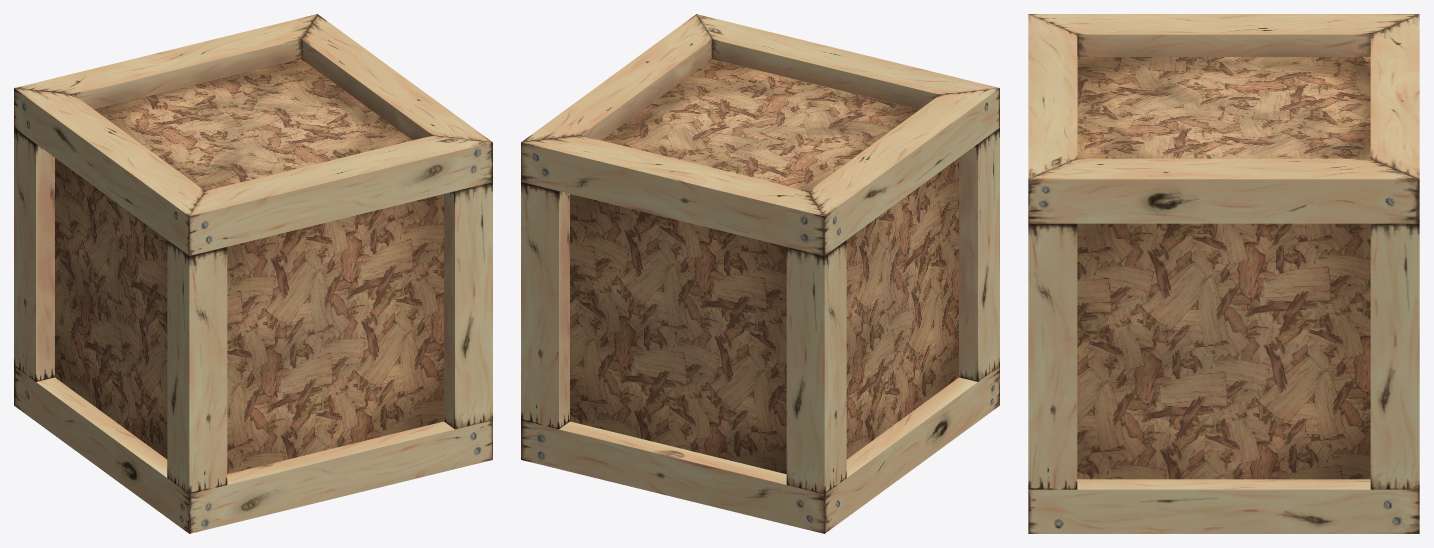
The model's file is PT_Crate.fbx.
The picture shows the model from 3 angles, left to right: view 1: azimuth 30°, elevation 25°; view 2: azimuth 150°, elevation 25°; view 3: azimuth 270°, elevation 25°; orthographic projection. The views are drawn at different scales.
Visible parts, largest first — view 1: PT_Crate; view 2: PT_Crate; view 3: PT_Crate.
Boxes of the visible parts, box(x1,y1,x2,y2) form: PT_Crate: box(14, 14, 492, 533); PT_Crate: box(521, 14, 999, 533); PT_Crate: box(1028, 14, 1419, 533).
Bounding box in the file's own units: 100 × 100 × 100.
